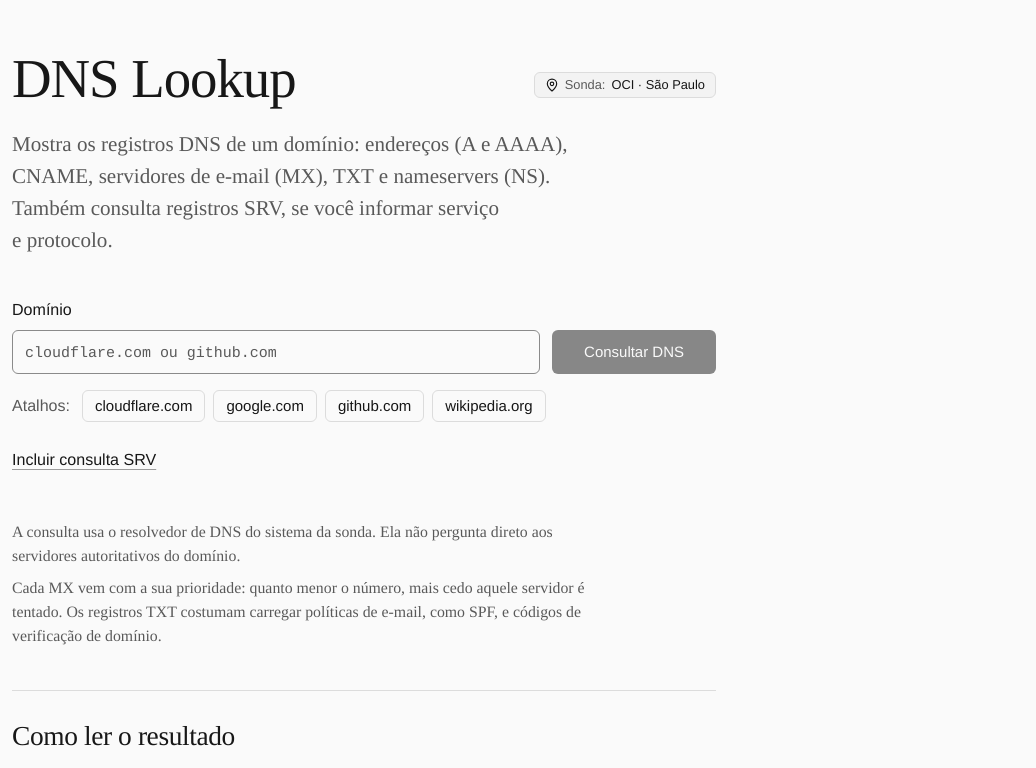
DnsLookup (comportamento) › sucesso lista endereços, MX com prioridade, TXT e NS
In the field: x=276, y=352 [12, 330, 540, 374], type "example.com"
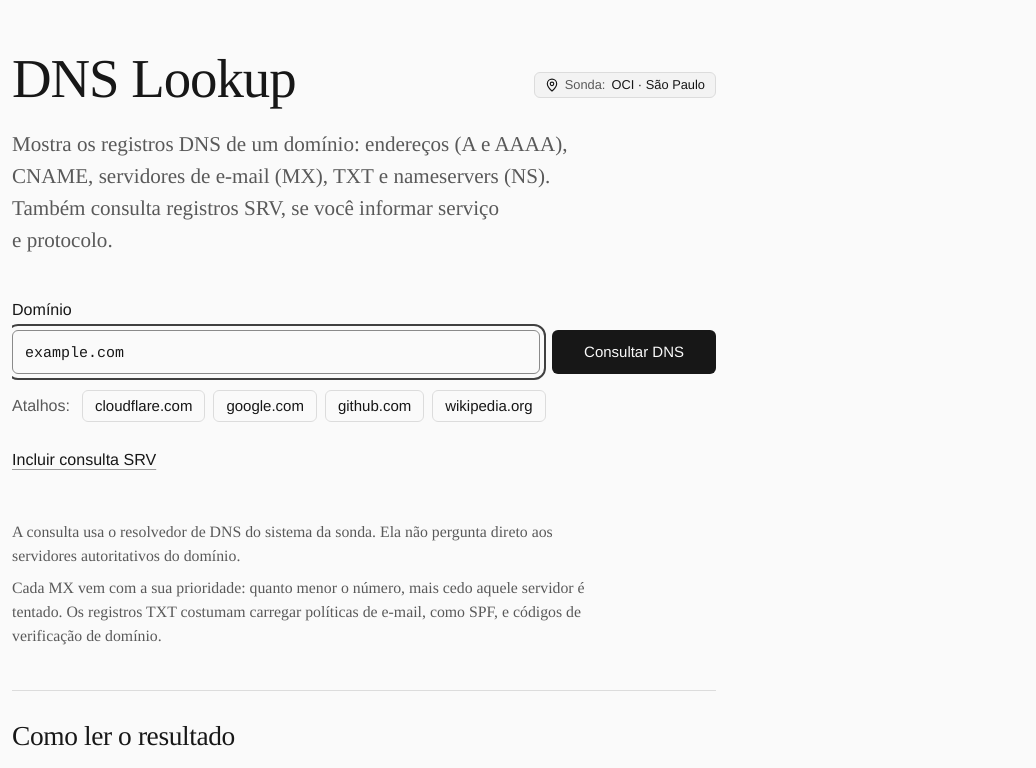
Click the button "Consultar DNS": x=634, y=352 [552, 330, 716, 374]
(page scrolled)
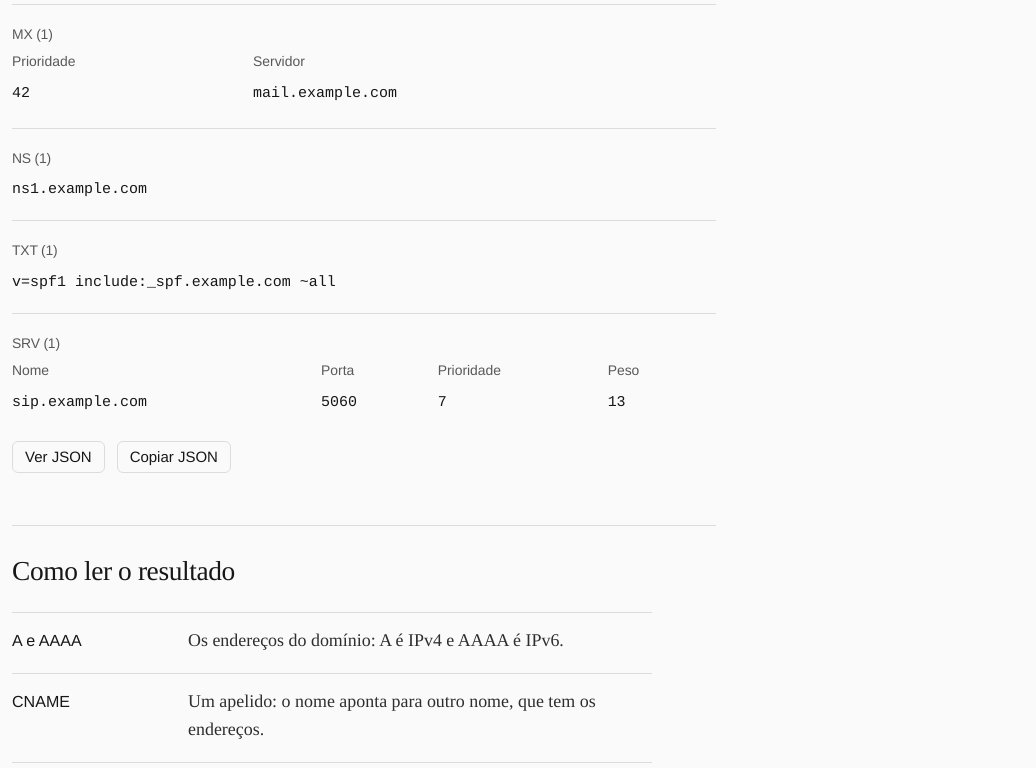
Expected: the text "mail.example.com" is shown, [253, 76, 716, 108]
Expected: the cell "42" is shown, [12, 76, 253, 108]
Expected: the list item "v=spf1 include:_spf.example.com ~all" is shown, [12, 271, 336, 290]
